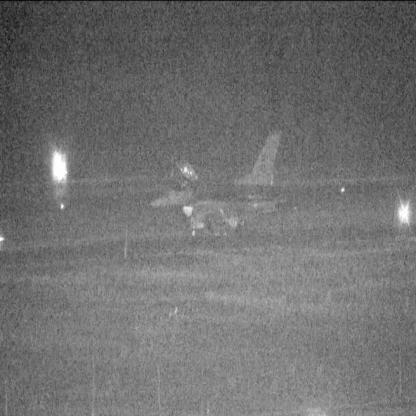F16: (149, 131, 288, 240)
